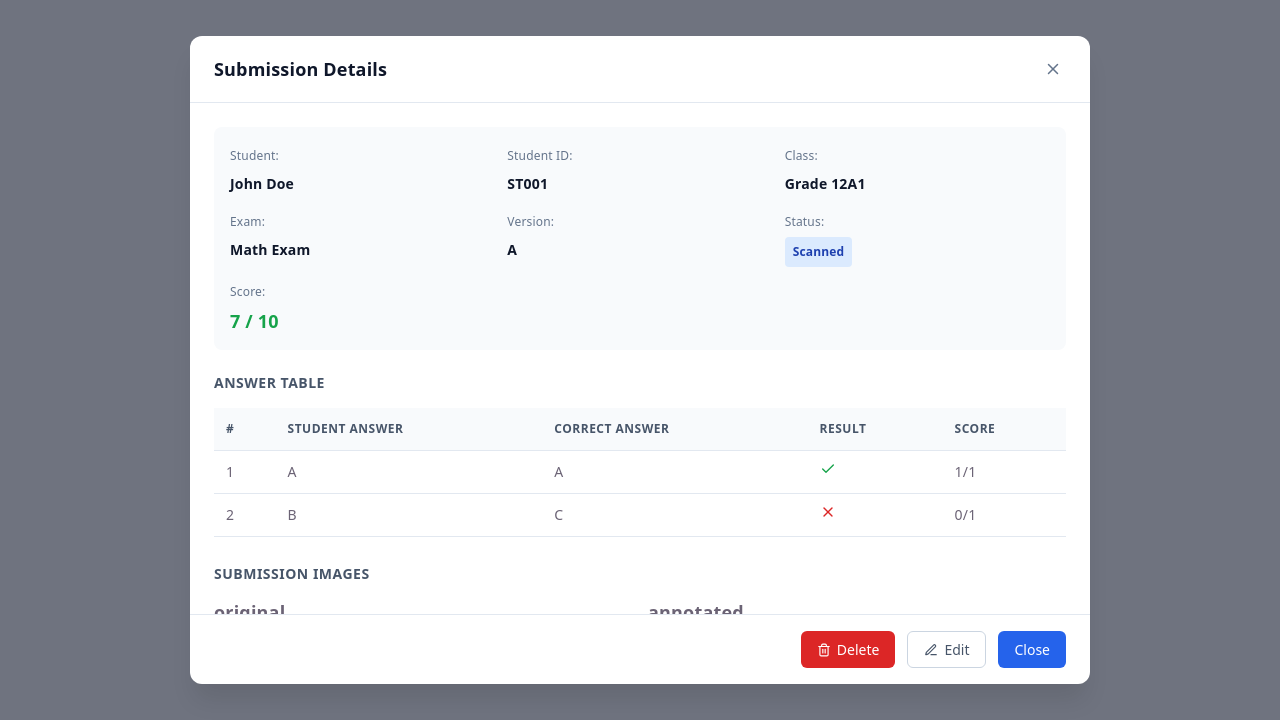
Test: SubmissionDetailModal › Update flow › switches to edit mode when Edit clicked
This screenshot has width=1280, height=720.
Click the button "Edit" at (947, 650), box [907,631,986,668]
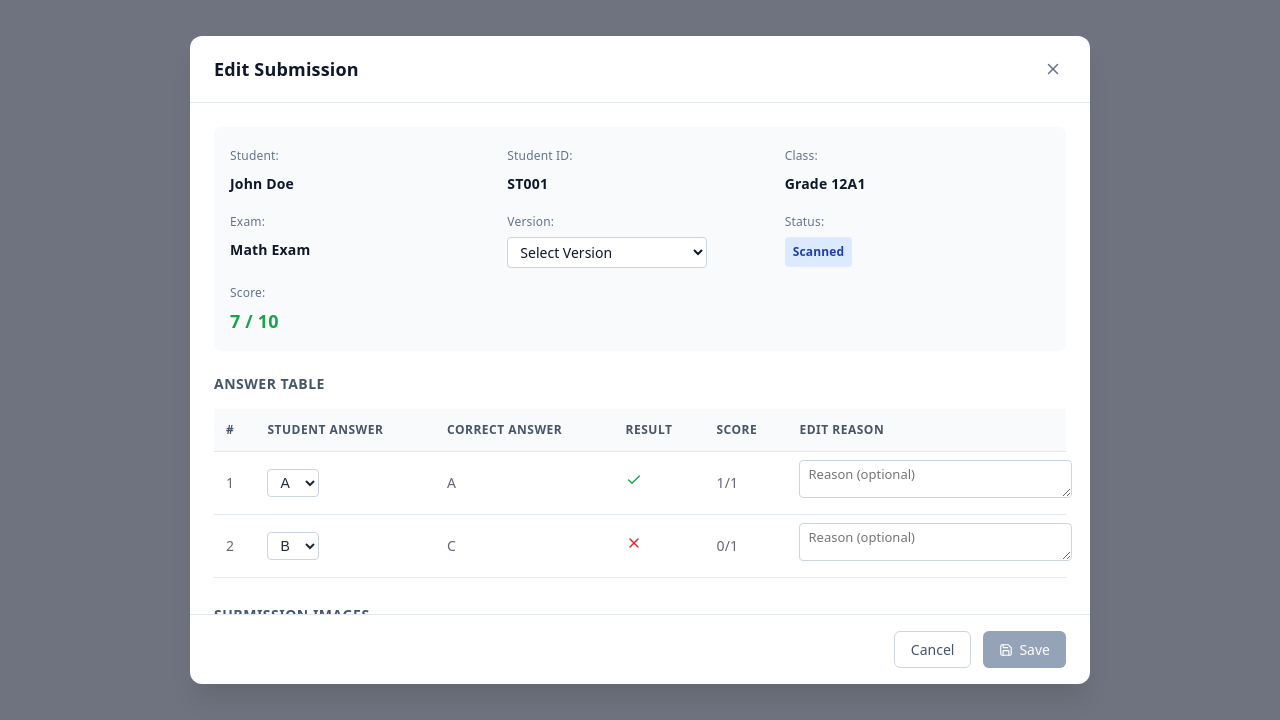
Now the dropdown below "Version:" is shown, box [507,237,707,268]
